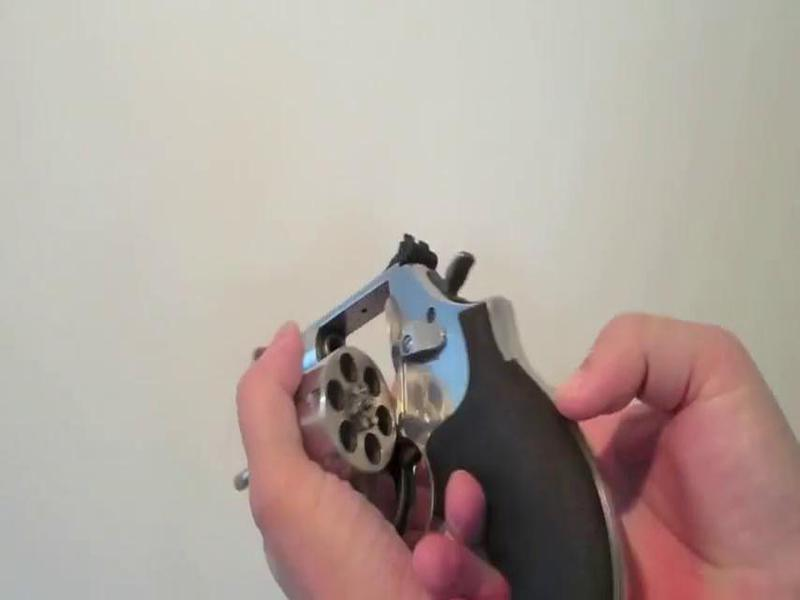Revolver: (235, 224, 636, 600)
